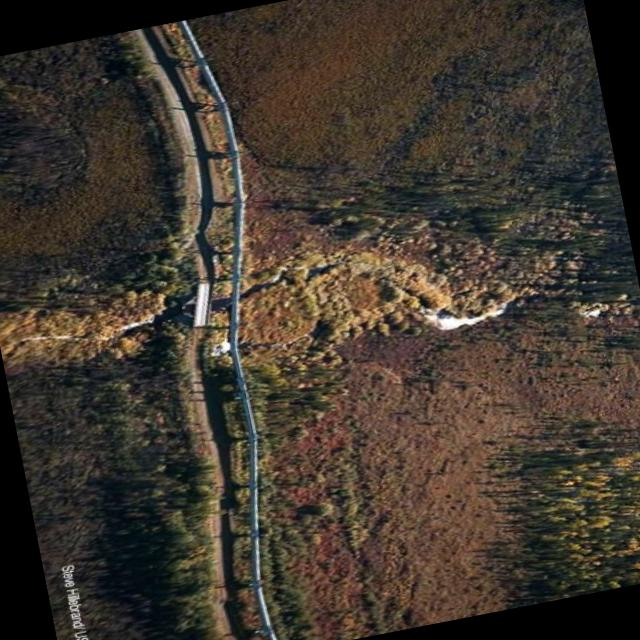gas: (198, 340, 302, 640), (198, 157, 280, 347), (178, 15, 242, 164)
